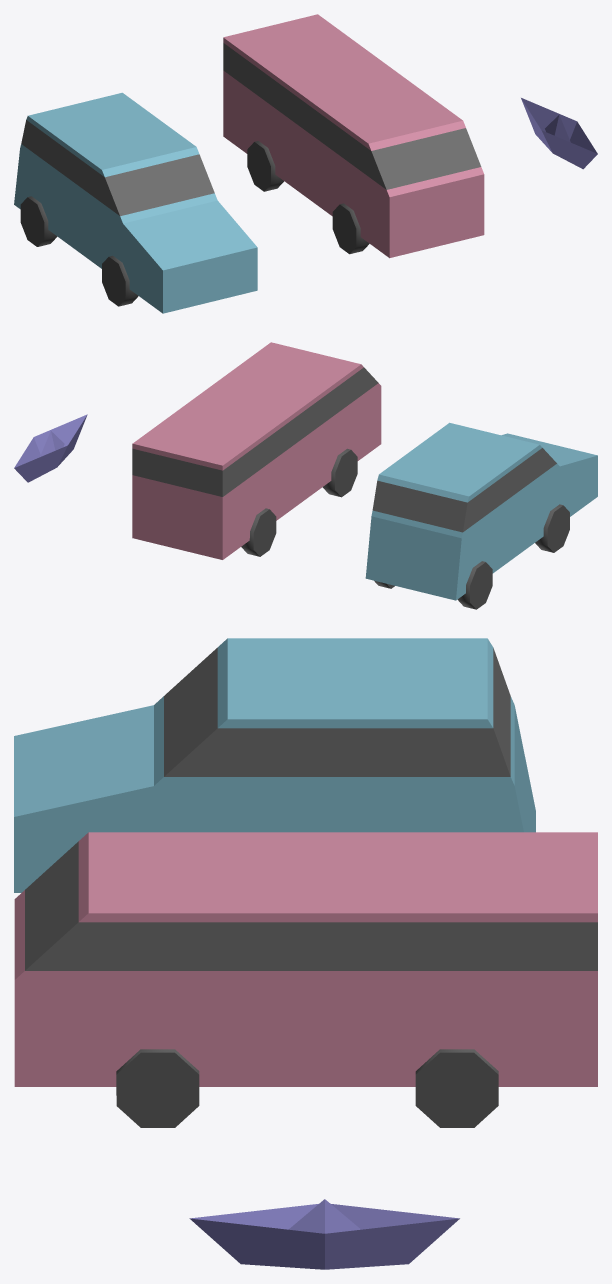
Rendered from street_prop_2.fbx.
3 renders of one model, top to bottom at view 1: azimuth 30°, elevation 25°; view 2: azimuth 150°, elevation 25°; view 3: azimuth 270°, elevation 25°, orthographic. The views are drawn at different scales.
Parts seen in each view (by area): view 1: Cube, Cube.001, Papership; view 2: Cube, Cube.001, Papership; view 3: Cube, Cube.001, Papership.
Part boxes in pixels (box(x1,y1,x2,y2)): Cube: box(223, 14, 484, 258); Cube.001: box(14, 92, 257, 313); Papership: box(521, 98, 597, 169); Cube: box(132, 342, 381, 559); Cube.001: box(365, 422, 597, 609); Papership: box(14, 414, 87, 482); Cube: box(14, 832, 597, 1127); Cube.001: box(14, 638, 535, 892); Papership: box(189, 1199, 459, 1269).
Bounding box in the file's own units: 1071 × 243 × 610.
